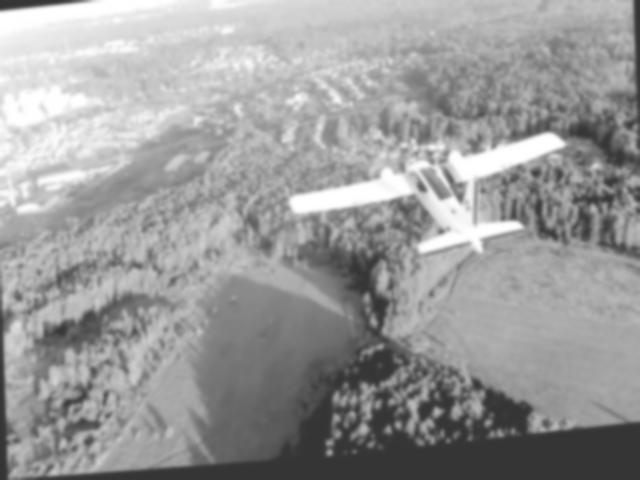hedef: (278, 126, 579, 290)
